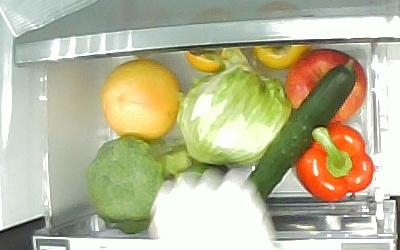apple: (284, 49, 367, 122)
broccoli: (87, 133, 192, 235)
cucumber: (244, 60, 357, 201)
grapefruit: (102, 59, 181, 142)
lettuce: (178, 67, 292, 165)
paprika: (297, 123, 375, 202)
persimmon: (182, 48, 246, 73), (253, 44, 311, 69)
